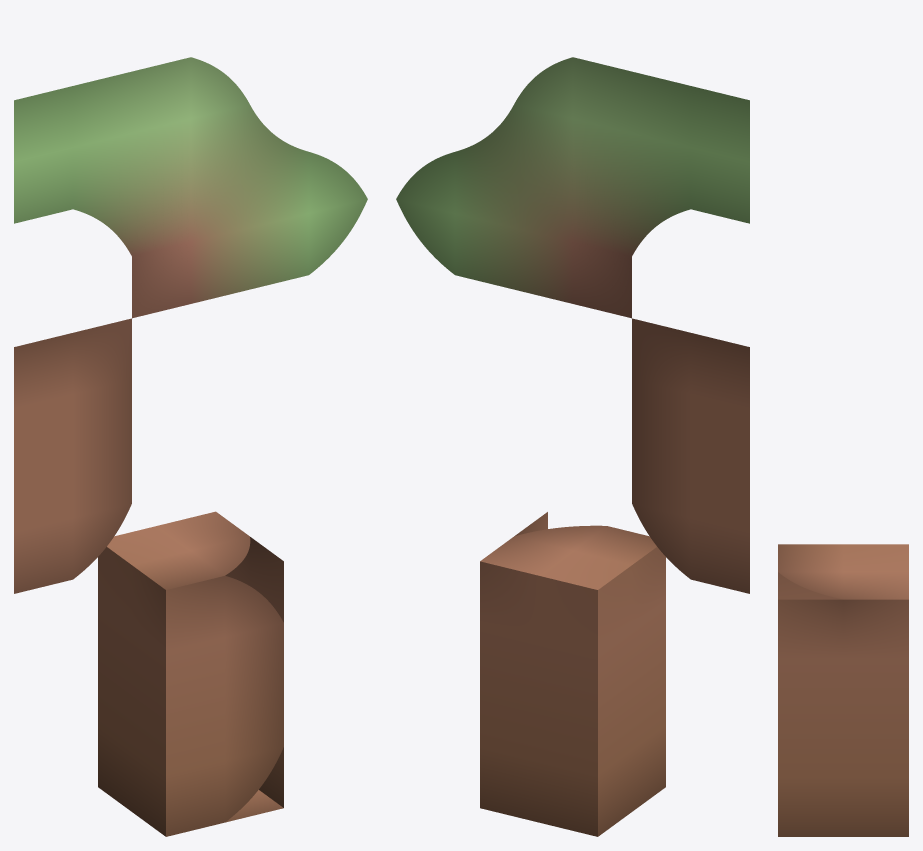
File: PalmTreeStage1.fbx
3 views of the same model, side by side, from view 1: azimuth 30°, elevation 25°; view 2: azimuth 150°, elevation 25°; view 3: azimuth 270°, elevation 25° (orthographic). The views are drawn at different scales.
Visible parts, largest first — view 1: top, stem; view 2: top, stem; view 3: stem.
Part boxes in pixels (bbox=[...]): top: bbox=[14, 57, 367, 593]; stem: bbox=[98, 511, 283, 836]; top: bbox=[396, 57, 749, 593]; stem: bbox=[480, 512, 665, 836]; stem: bbox=[778, 544, 908, 836].
Bounding box in the file's own units: 9.38 × 18.75 × 3.12.
1 material, 1 textured.
